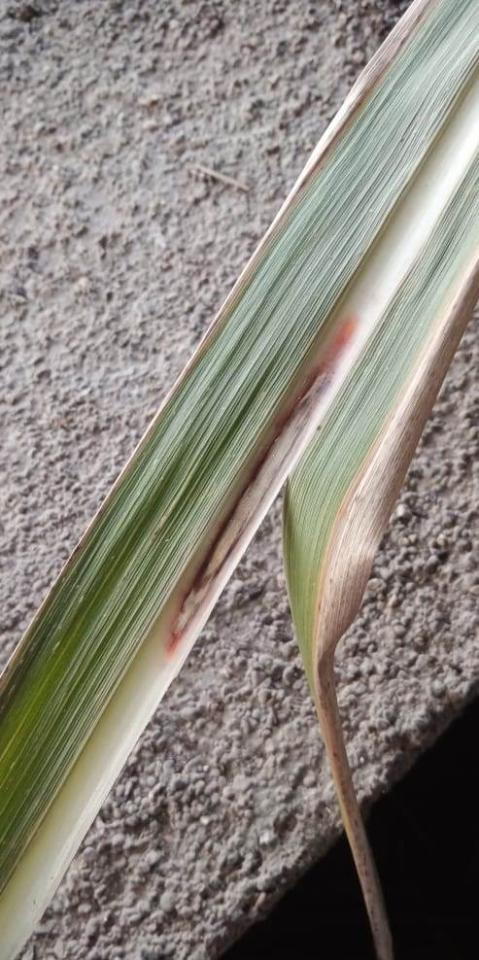RedRot: (163, 311, 359, 659)
